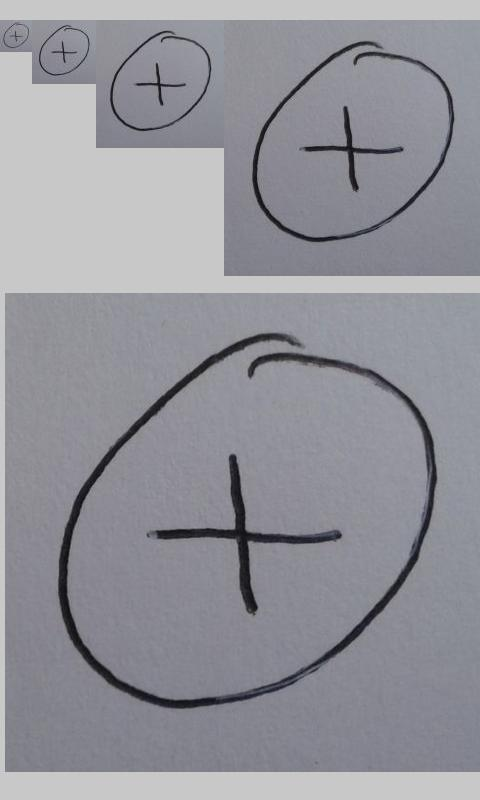button: (56, 331, 439, 711), (252, 40, 456, 243), (109, 30, 212, 132), (38, 24, 91, 76), (2, 22, 30, 49)
